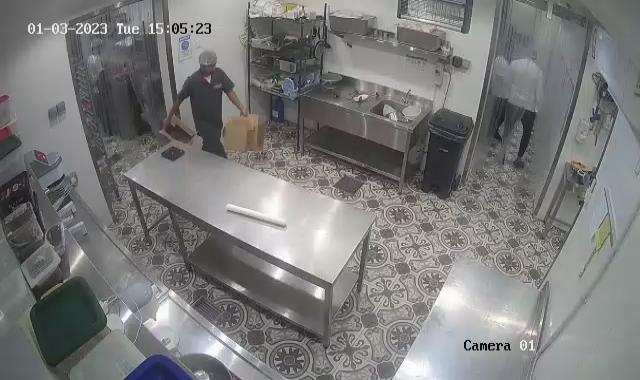hairnet: (198, 51, 217, 71)
